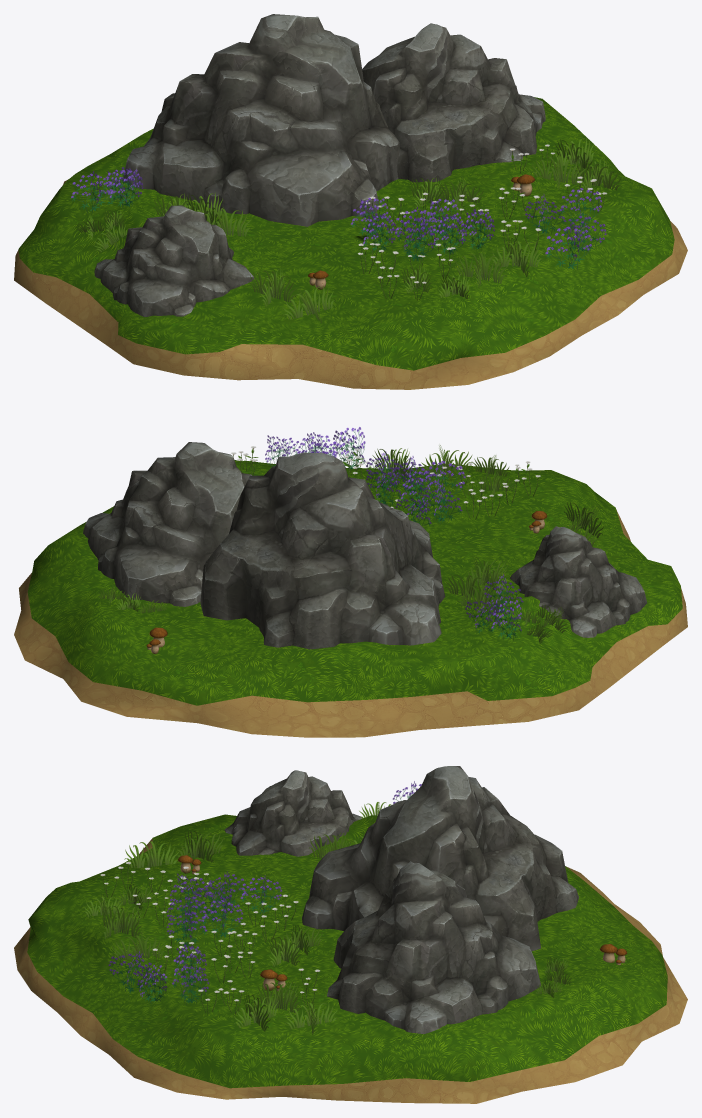
3 renders of one model, top to bottom at view 1: azimuth 30°, elevation 25°; view 2: azimuth 150°, elevation 25°; view 3: azimuth 270°, elevation 25°, orthographic. The views are drawn at different scales.
Visible parts, largest first — view 1: GroundGrass, Rock1, Grass010, GroundRoad; view 2: GroundGrass, Rock1, GroundRoad, Grass010; view 3: GroundGrass, Rock1, Grass010, GroundRoad.
Boxes of the visible parts, x1,y1,x2,y2 form: GroundGrass: (18,97,674,370); Rock1: (94,14,545,316); Grass010: (71,137,621,322); GroundRoad: (14,179,687,389); GroundGrass: (27,460,682,705); Rock1: (83,442,646,649); GroundRoad: (14,510,687,737); Grass010: (98,427,603,653); GroundGrass: (27,814,667,1088); Rock1: (224,766,578,1033); Grass010: (83,781,627,1034); GroundRoad: (14,839,687,1103).
Bounding box in the file's own units: 196 × 66.71 × 208.
Materials: 4 (4 with a texture image).
